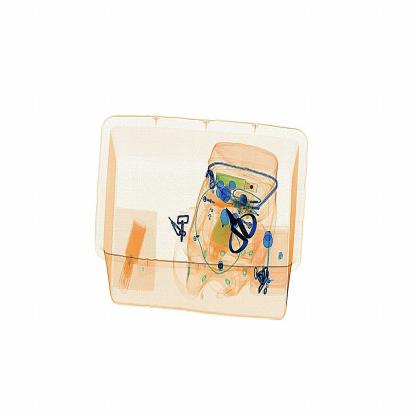gun: (218, 200, 262, 260)
